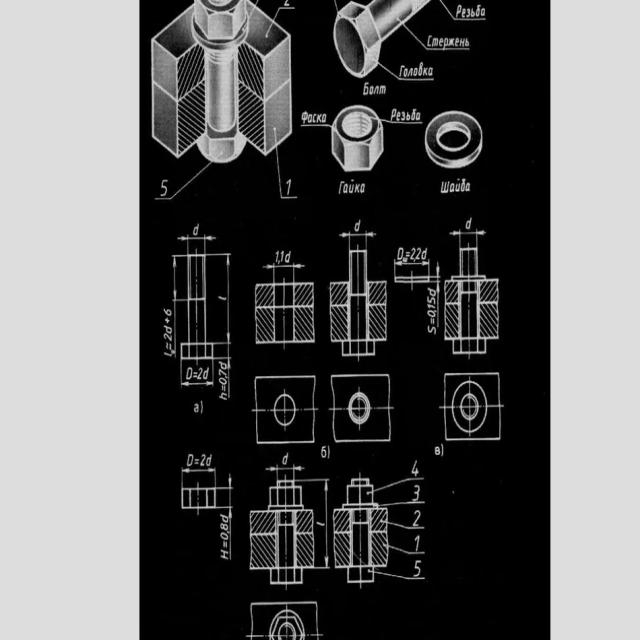marking_line: (226, 255, 231, 342), (323, 484, 328, 569), (177, 234, 216, 244), (266, 464, 304, 474), (339, 231, 380, 240), (262, 264, 306, 271), (448, 231, 487, 238), (171, 258, 177, 300), (182, 382, 213, 386), (228, 359, 230, 399)
numeric: (410, 485, 422, 505), (410, 457, 422, 477), (219, 513, 228, 538), (413, 559, 422, 578), (412, 510, 420, 528), (413, 535, 421, 551), (200, 452, 205, 469)
special_symbol: (155, 186, 186, 202), (275, 186, 301, 202)
